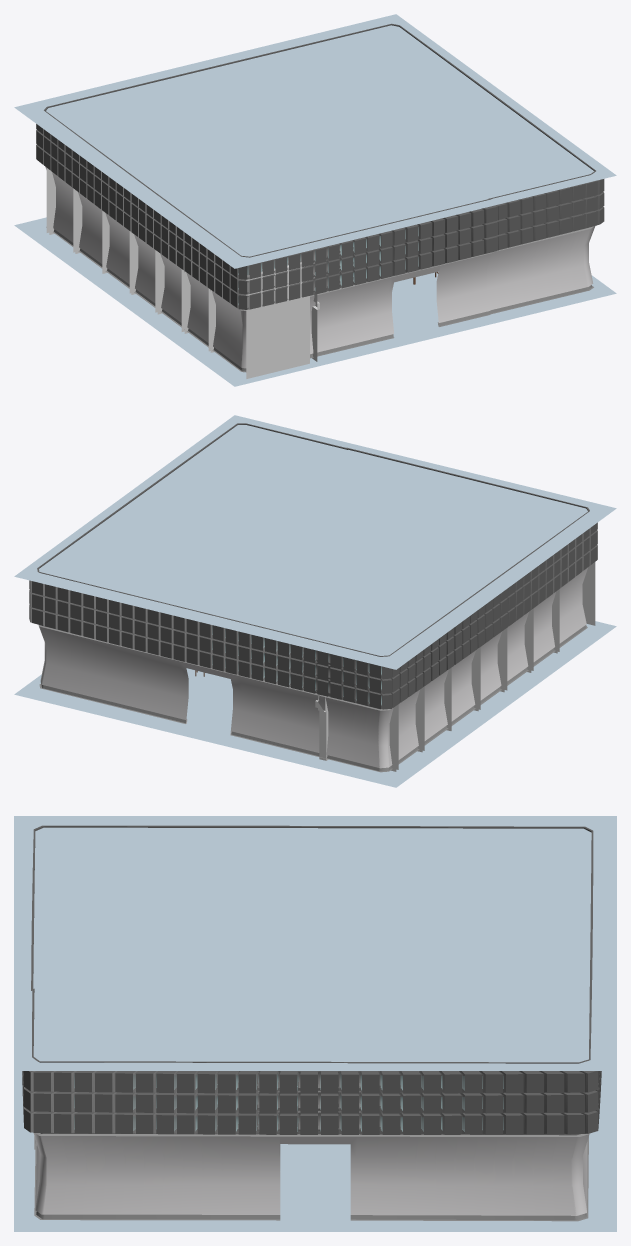
The model's file is m_SmallRoom_3_Cellblock.fbx.
3 renders of one model, top to bottom at view 1: azimuth 30°, elevation 25°; view 2: azimuth 150°, elevation 25°; view 3: azimuth 270°, elevation 25°, orthographic. The views are drawn at different scales.
Parts seen in each view (by area): view 1: m_smallRoom001.007, m_Cellblock.003; view 2: m_smallRoom001.007, m_Cellblock.003; view 3: m_smallRoom001.007.
Boxes of the visible parts, x1,y1,x2,y2 form: m_smallRoom001.007: (14,14,616,386); m_Cellblock.003: (46,168,319,378); m_smallRoom001.007: (14,415,616,787); m_Cellblock.003: (315,562,595,771); m_smallRoom001.007: (14,816,616,1231).
Size of the model in its own units: 1515 by 453 by 1515.
